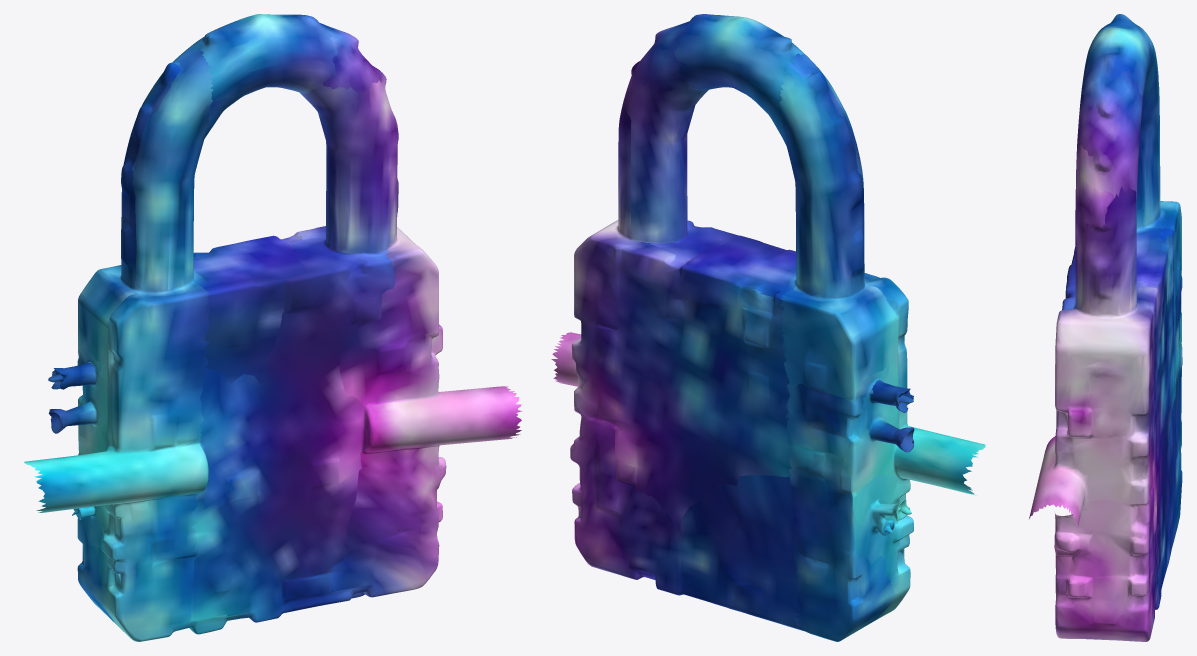
The model's file is padlock.min.glb.
3 renders of one model, left to right at view 1: azimuth 30°, elevation 25°; view 2: azimuth 150°, elevation 25°; view 3: azimuth 270°, elevation 25°, orthographic. The views are drawn at different scales.
Visible parts, largest first — view 1: tripo_node_f11d5294-19b7-4643-8374-6e005dd6ec03; view 2: tripo_node_f11d5294-19b7-4643-8374-6e005dd6ec03; view 3: tripo_node_f11d5294-19b7-4643-8374-6e005dd6ec03.
Part boxes in pixels (bbox=[...]): tripo_node_f11d5294-19b7-4643-8374-6e005dd6ec03: bbox=[24, 14, 522, 641]; tripo_node_f11d5294-19b7-4643-8374-6e005dd6ec03: bbox=[551, 14, 986, 641]; tripo_node_f11d5294-19b7-4643-8374-6e005dd6ec03: bbox=[1029, 14, 1182, 641].
Size of the model in its own units: 0.1499 by 0.1827 by 0.0465.
Materials: 1 (1 with a texture image).
